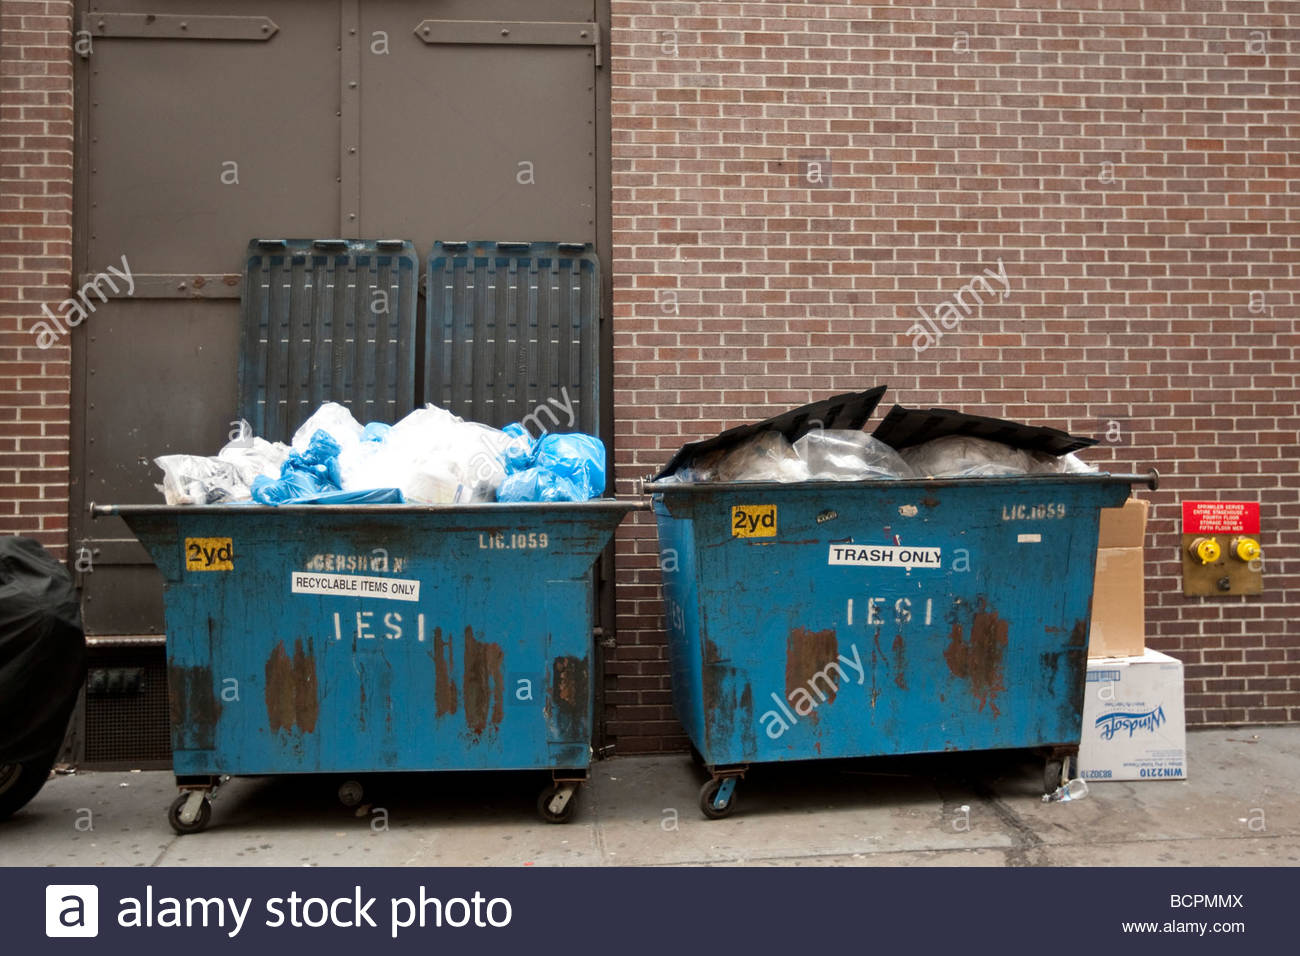Dumpster: (125, 233, 628, 831), (652, 381, 1103, 778)
